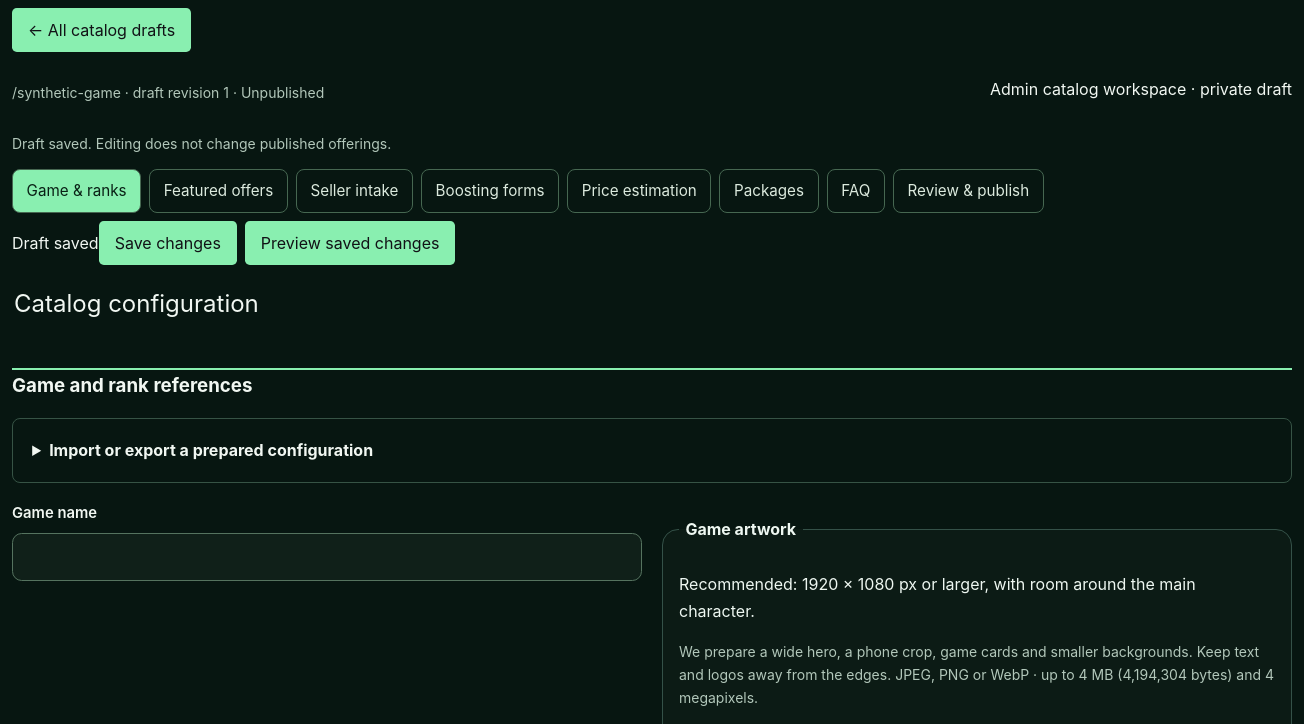
it: keeps invalid preview on the field instead of switching to publication
Click the link "FAQ" at [856, 192], box left=827, top=170, right=885, bottom=214
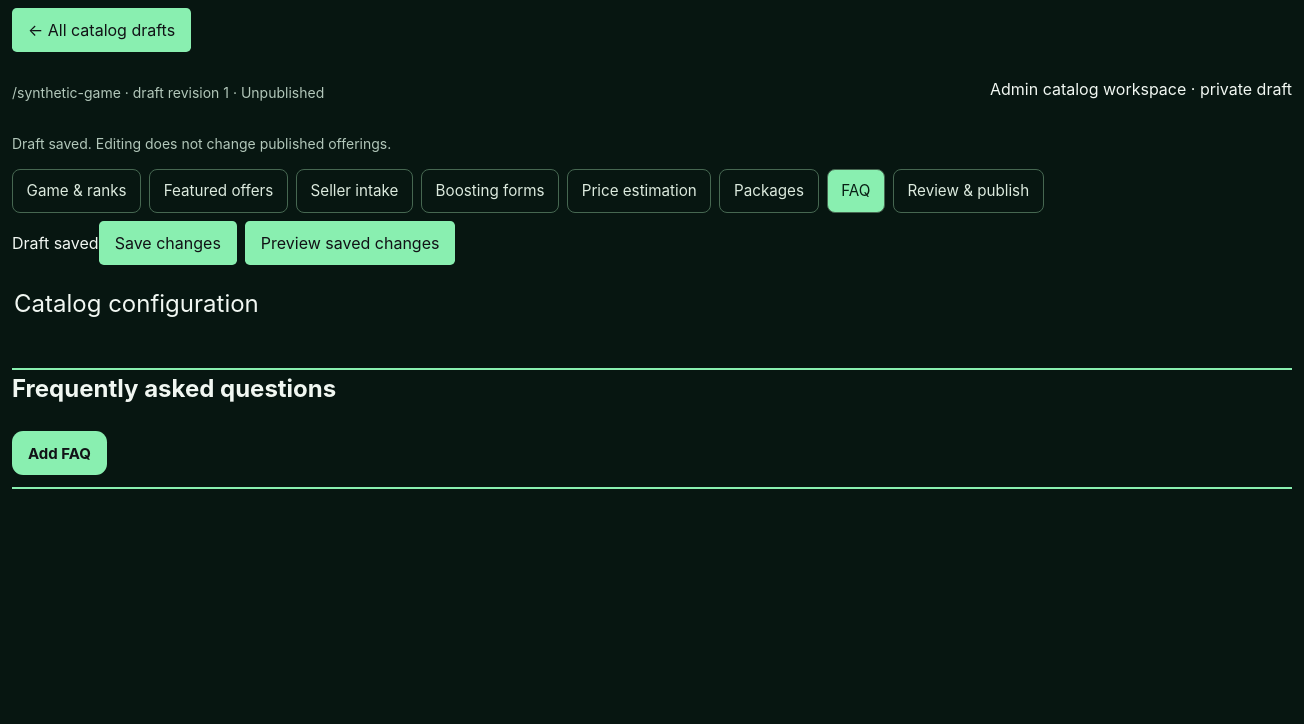
Now the label labelled "Game name" is gone
Click the button "Preview saved changes" at [350, 244], box left=245, top=222, right=455, bottom=266
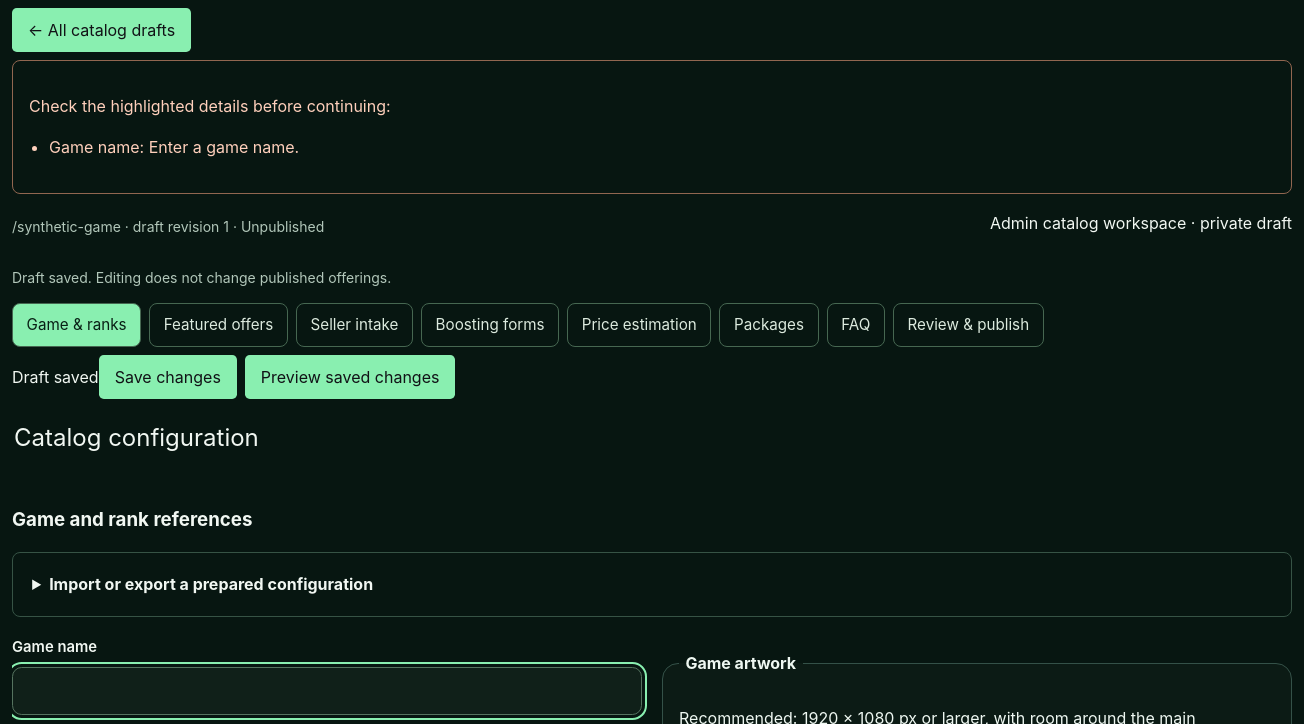
Now the field labelled "Game name" is shown, box left=12, top=667, right=642, bottom=715
